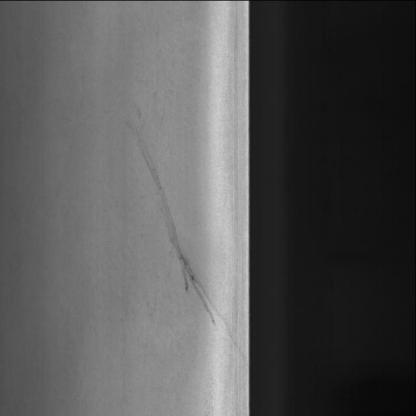water_spot: (118, 104, 222, 338)
